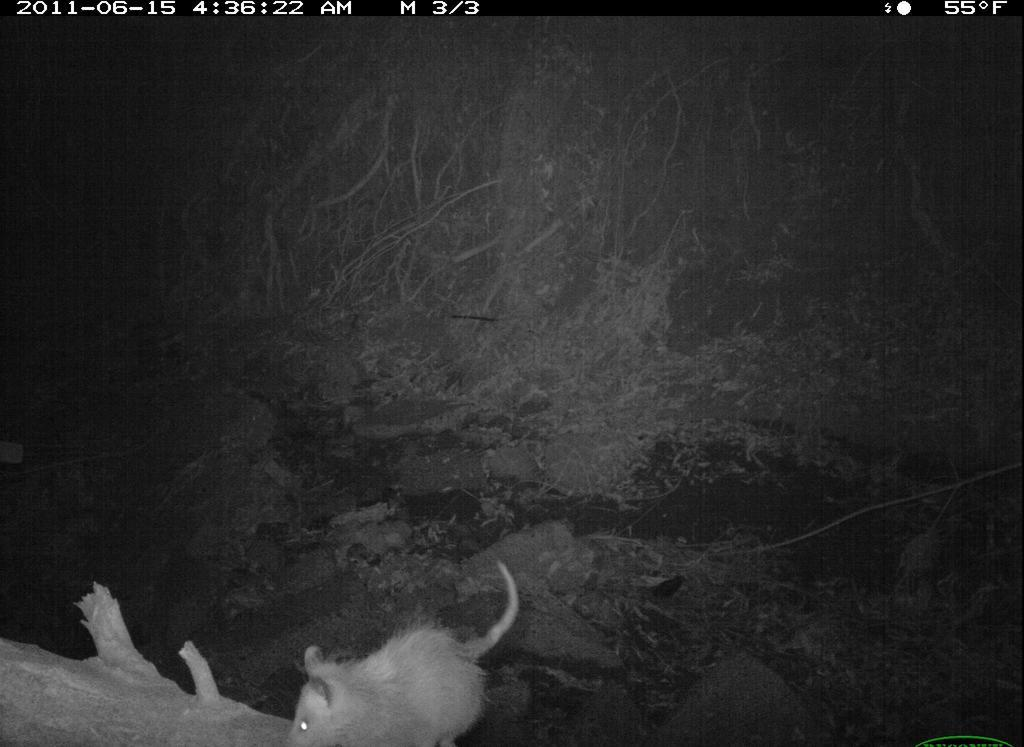opossum: (264, 560, 530, 743)
